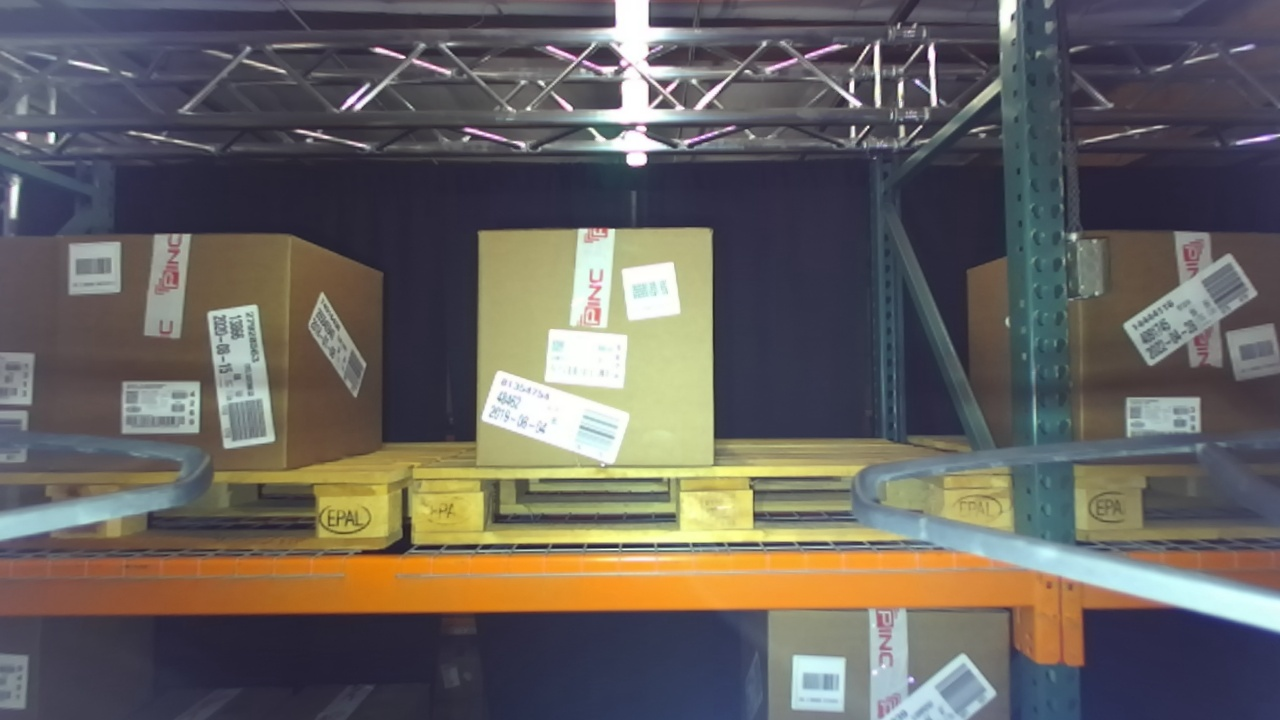box: (453, 203, 742, 480), (42, 215, 315, 480), (1051, 200, 1280, 466)
